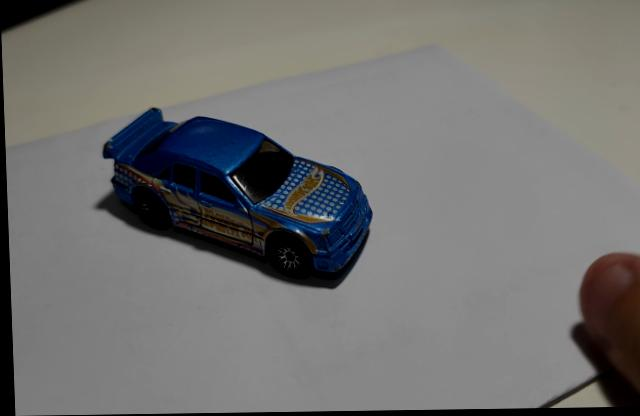04_MERZEDES: (100, 110, 373, 292)
